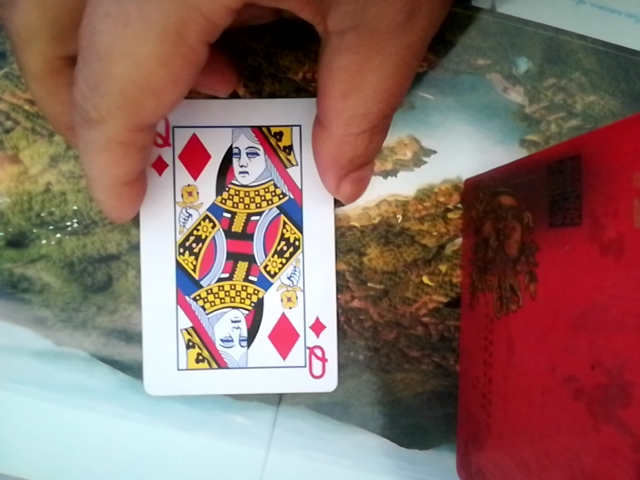fk q: (131, 96, 347, 398)
